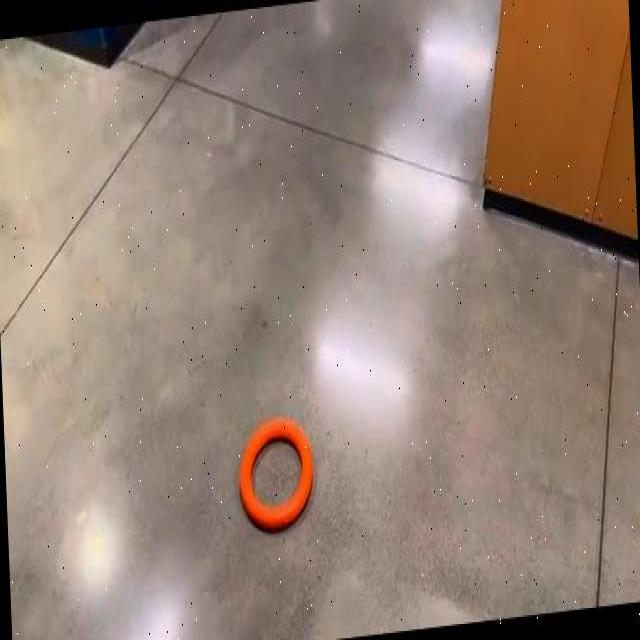note: (240, 418, 313, 526)
